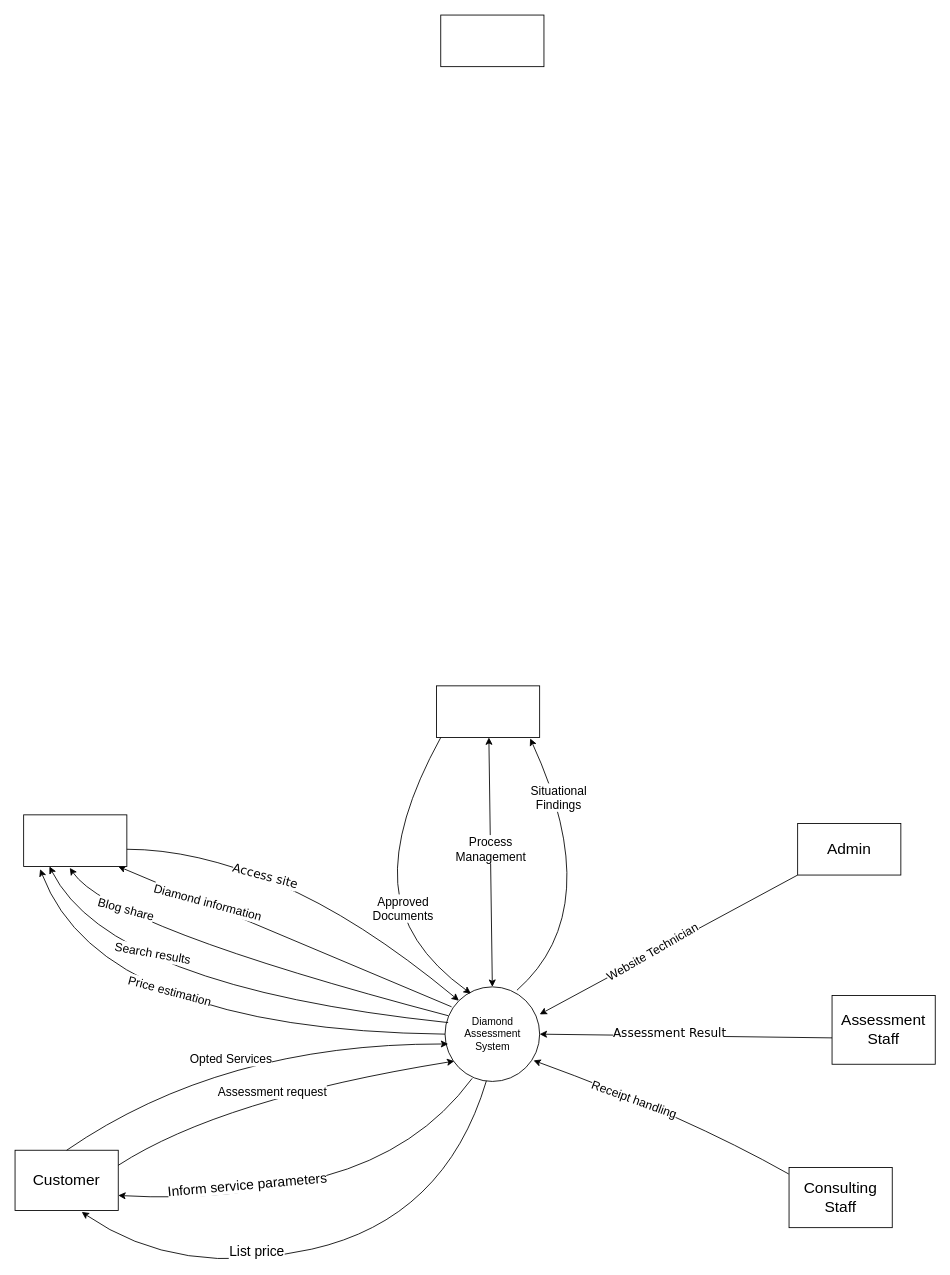
Some shapes in this 950 by 1275 pixel diagram are drawn without their labels. Here are the shapes that lost their labels. From the top down, the centre of each, then its label:
the point at 492,40: Pain
the point at 488,711: Manager
the point at 75,840: Guest
